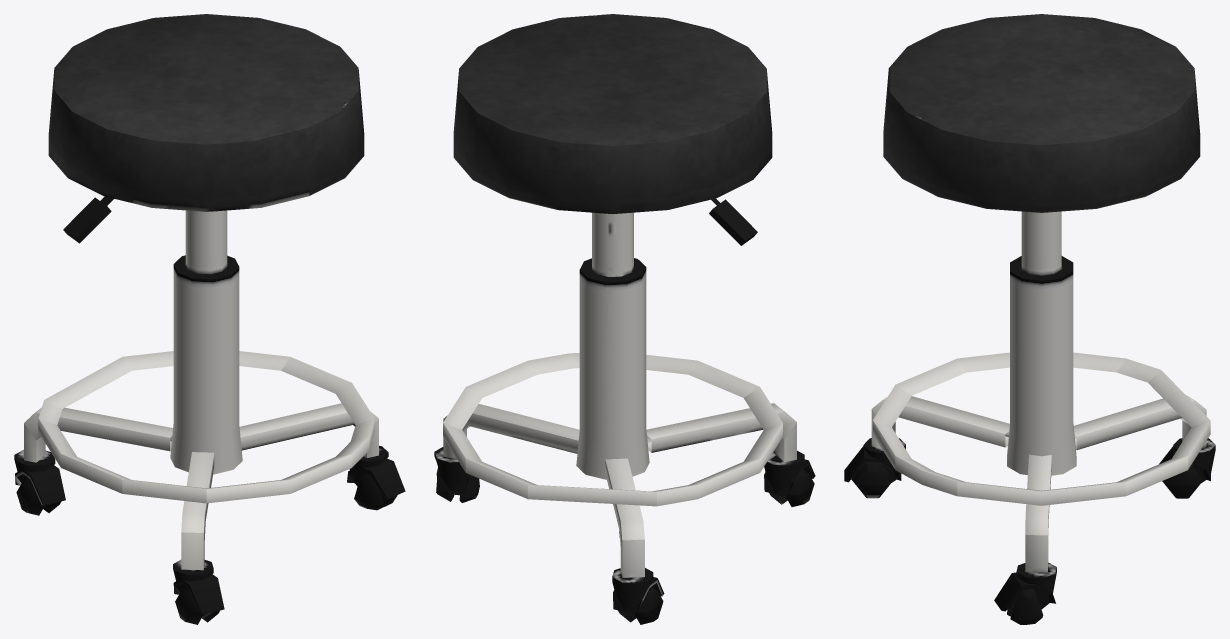
The model's file is 15stole.glb.
3 views of the same model, side by side, from view 1: azimuth 30°, elevation 25°; view 2: azimuth 150°, elevation 25°; view 3: azimuth 270°, elevation 25° (orthographic).
Parts seen in each view (by area): view 1: stole; view 2: stole; view 3: stole.
Part boxes in pixels (box(x1,y1,x2,y2)): stole: box(14, 14, 405, 624); stole: box(434, 14, 815, 624); stole: box(844, 14, 1215, 624).
Bounding box in the file's own units: 0.3782 × 0.5106 × 0.3713.
Materials: 1 (1 with a texture image).
